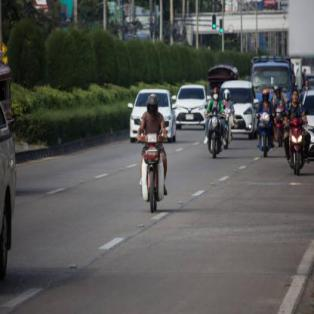Motocicleta: (134, 122, 166, 222), (282, 114, 310, 180), (202, 106, 224, 157), (256, 100, 271, 157)
